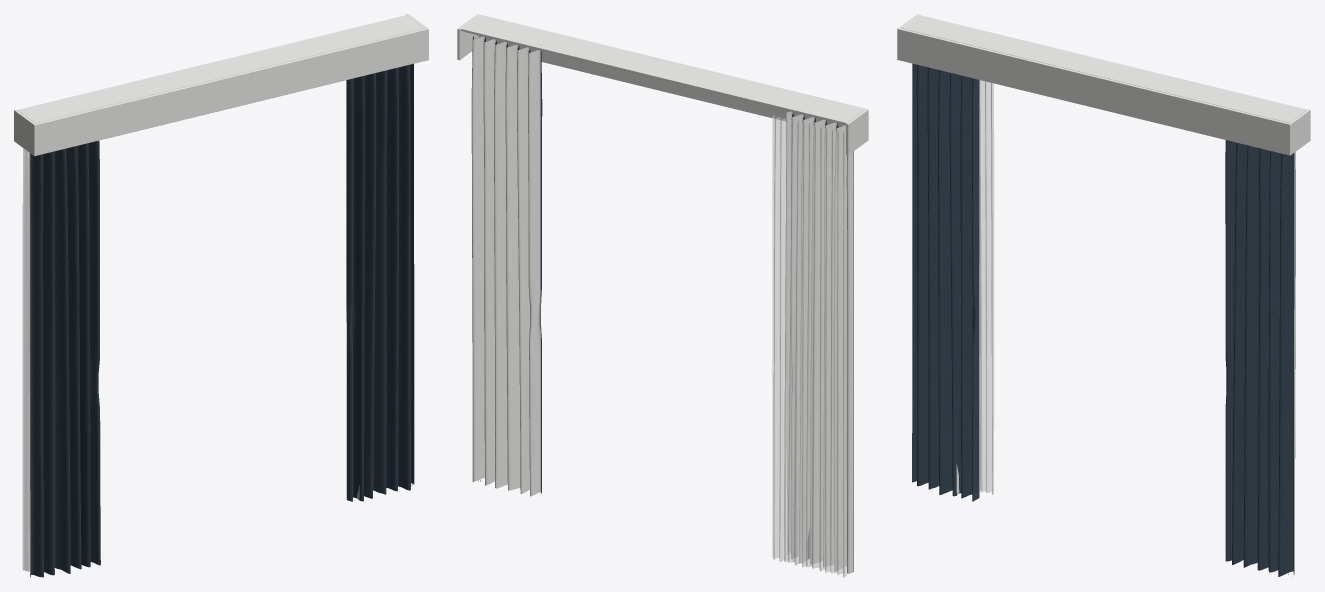
File: hotel-blackout-drapes.glb
The picture shows the model from 3 angles, left to right: view 1: azimuth 30°, elevation 25°; view 2: azimuth 150°, elevation 25°; view 3: azimuth 330°, elevation 25°; orthographic projection.
Parts seen in each view (by area): view 1: open_drapes_left, open_drapes_right, drape_white, open_sheer, drape_backing_left; view 2: open_sheer, drape_backing_right, drape_backing_left, drape_white, open_drapes_right, open_drapes_left; view 3: open_drapes_right, open_drapes_left, drape_white, open_sheer, drape_backing_right.
Part boxes in pixels (x1,y1,x2,y2): open_drapes_left: (30, 140, 100, 577); open_drapes_right: (346, 64, 414, 501); drape_white: (14, 14, 428, 156); open_sheer: (22, 148, 29, 571); drape_backing_left: (29, 153, 30, 576); open_sheer: (772, 115, 846, 577); drape_backing_right: (471, 36, 540, 496); drape_backing_left: (786, 111, 853, 573); drape_white: (457, 14, 868, 154); open_drapes_right: (473, 36, 542, 493); open_drapes_left: (792, 112, 853, 571); open_drapes_right: (1225, 140, 1294, 576); open_drapes_left: (912, 63, 979, 501); drape_white: (897, 14, 1310, 155); open_sheer: (979, 80, 994, 494); drape_backing_right: (1294, 152, 1295, 574).
Bounding box in the file's own units: 2.64 × 2.96 × 0.2375.
4 materials, 1 textured.
